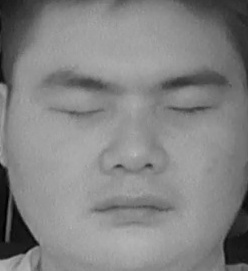blink: (52, 95, 105, 130), (166, 90, 214, 123)
mouth: (96, 186, 175, 229)
